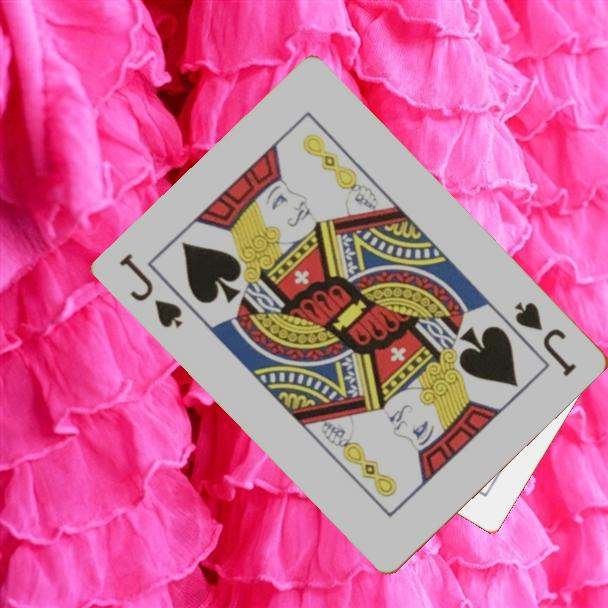s11: (116, 250, 187, 332), (511, 297, 581, 380)
